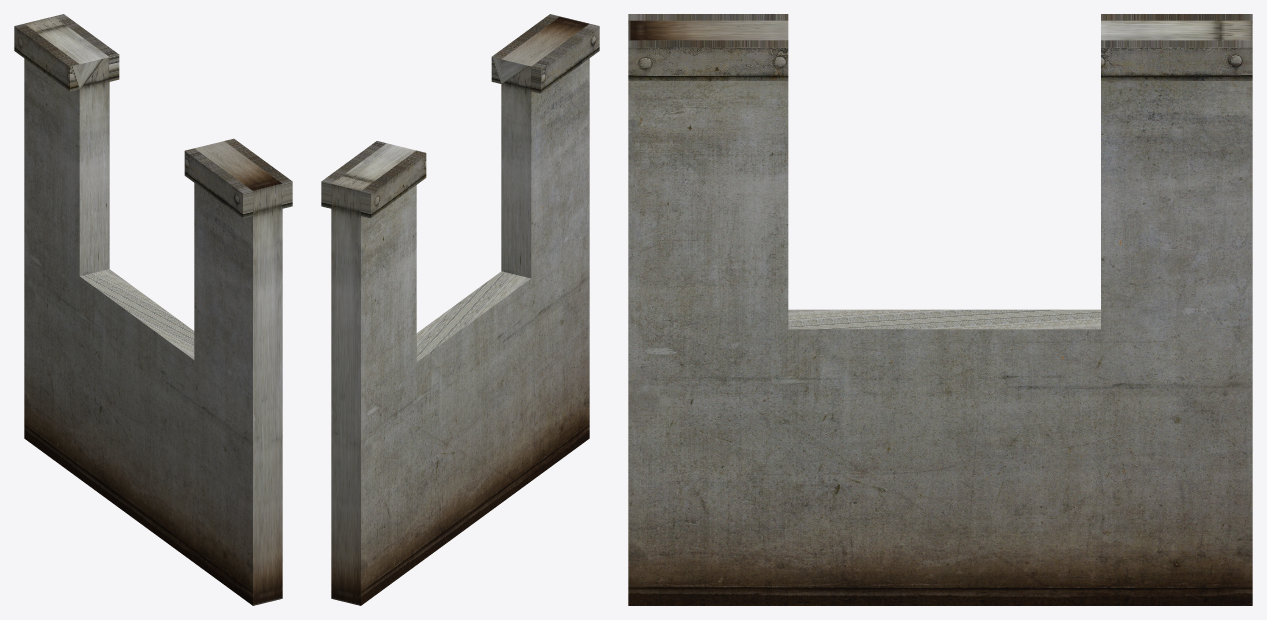
The model's file is modular door concrete.FBX.
3 renders of one model, left to right at view 1: azimuth 30°, elevation 25°; view 2: azimuth 150°, elevation 25°; view 3: azimuth 270°, elevation 25°, orthographic. The views are drawn at different scales.
Parts seen in each view (by area): view 1: modular wall concrete; view 2: modular wall concrete; view 3: modular wall concrete.
Part boxes in pixels (x1,y1,x2,y2): modular wall concrete: (14,14,292,605); modular wall concrete: (321,14,599,605); modular wall concrete: (628,14,1252,605).
Size of what is drawn, in the model's own units: 50 by 400 by 400.
